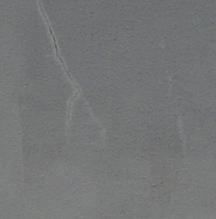retracao: (33, 0, 106, 141)
